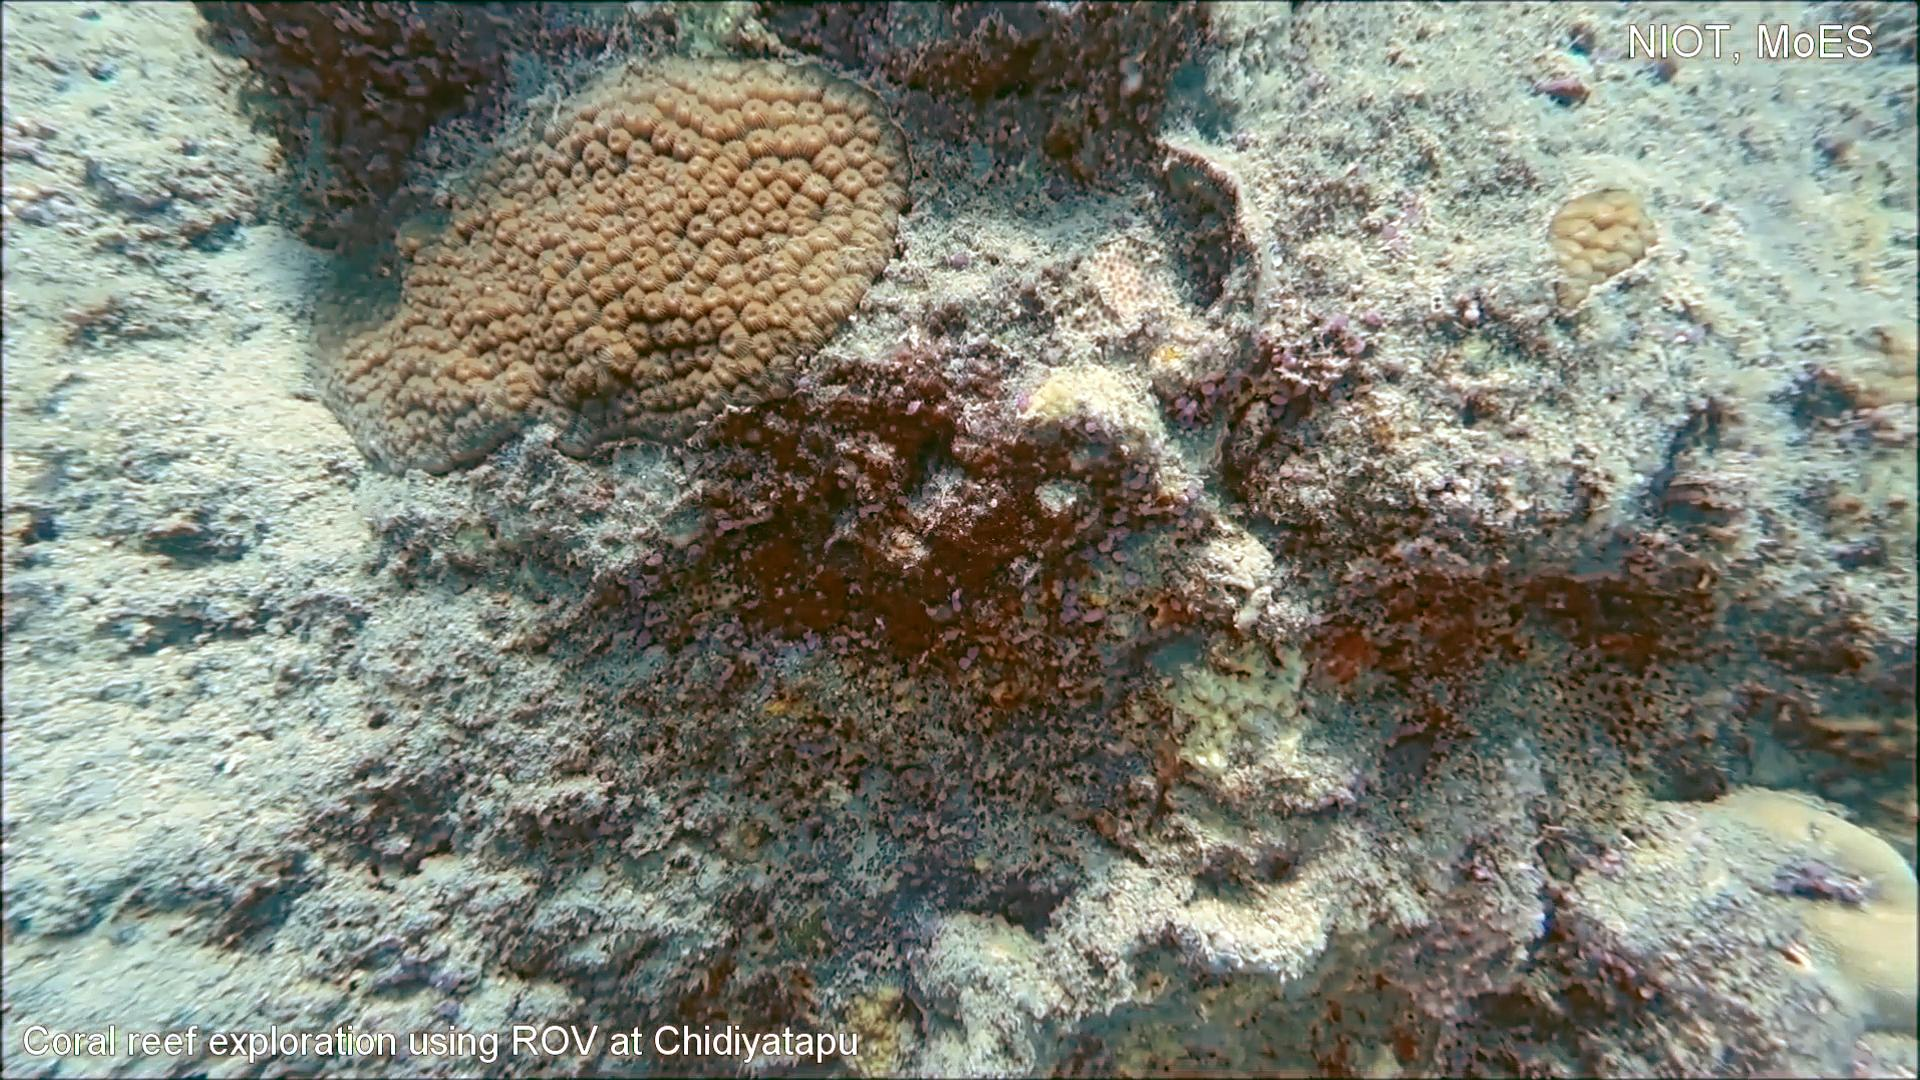Montastraea: (314, 41, 923, 489), (1542, 173, 1669, 332)
